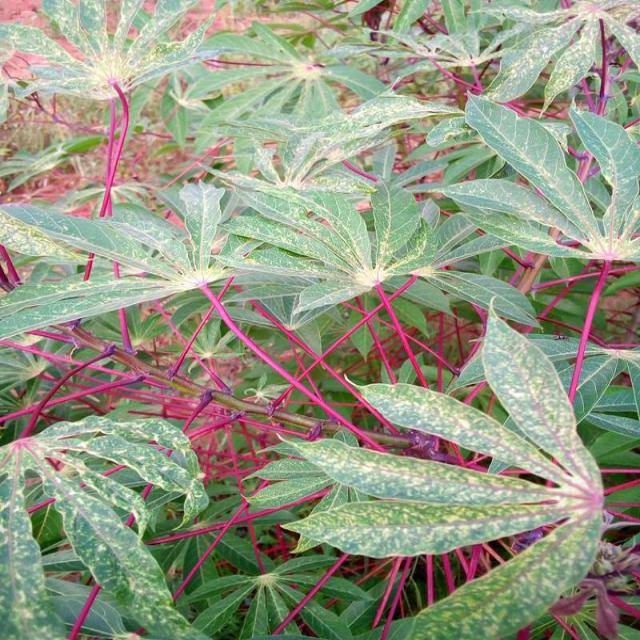cassava leaf: (250, 295, 606, 638), (463, 90, 602, 250)
